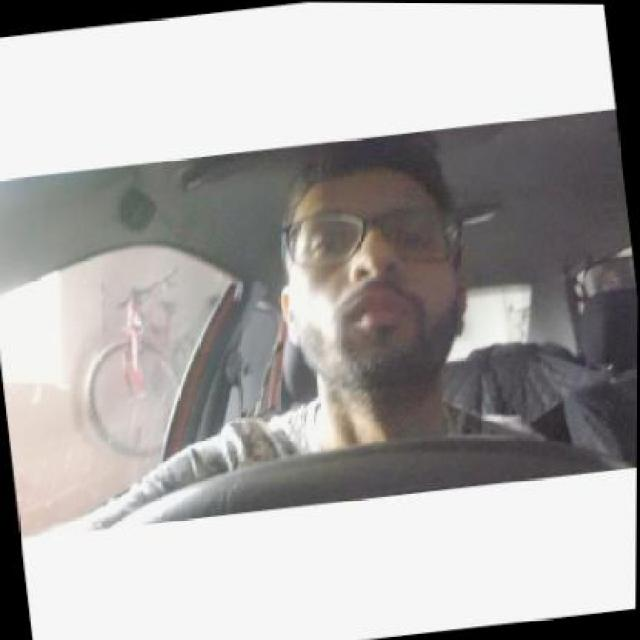person: (260, 135, 490, 403)
